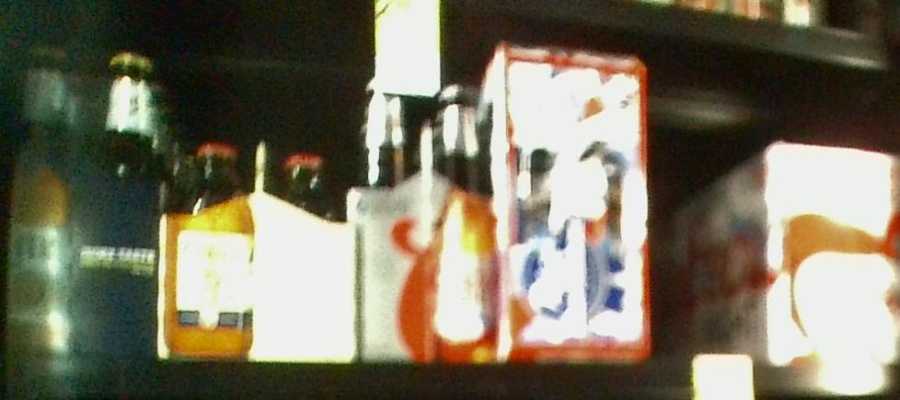bottle: (495, 43, 648, 366), (2, 43, 156, 355), (677, 145, 900, 358), (159, 142, 354, 363), (355, 76, 498, 365)
